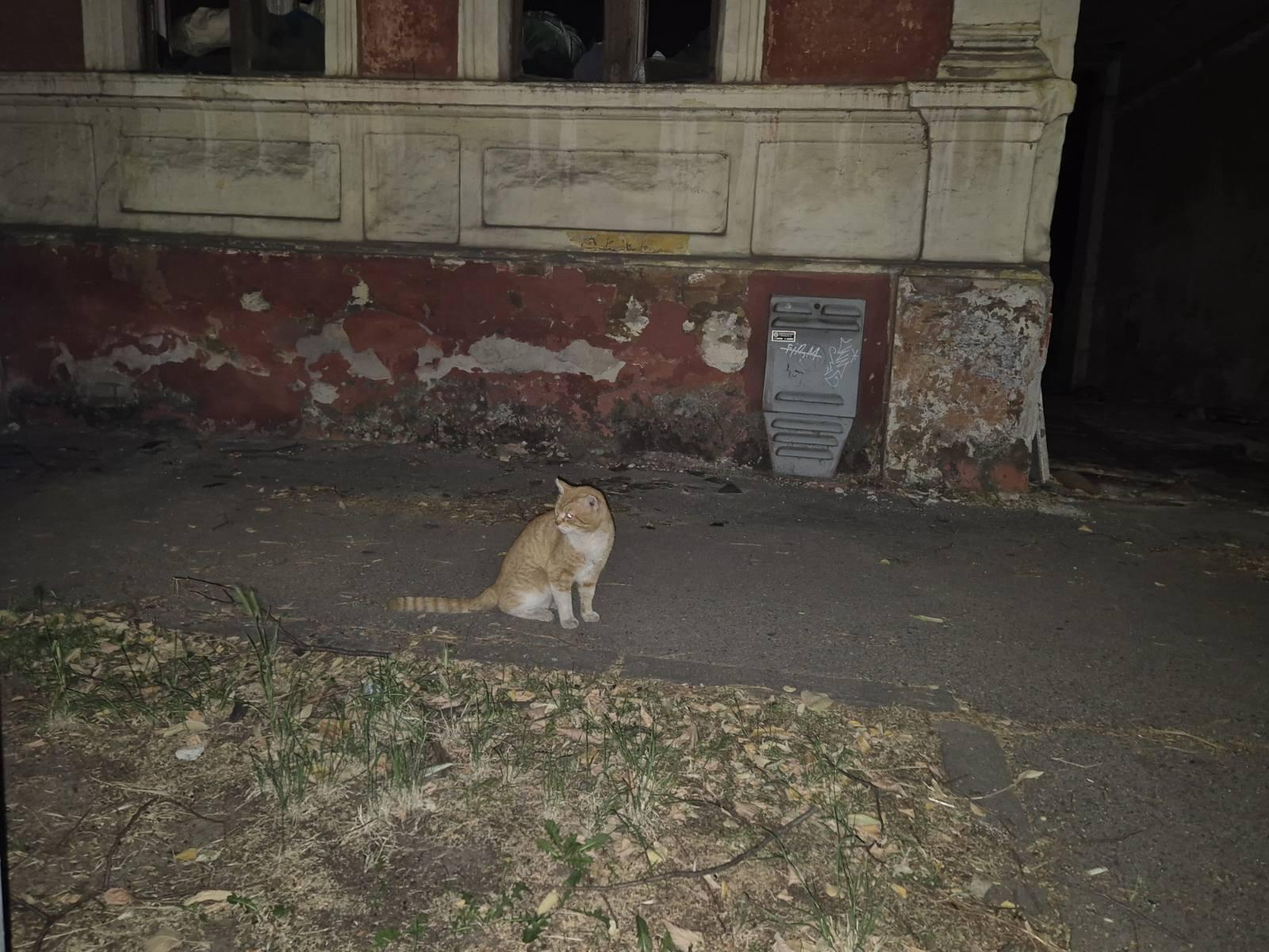macka: (391, 476, 615, 630)
